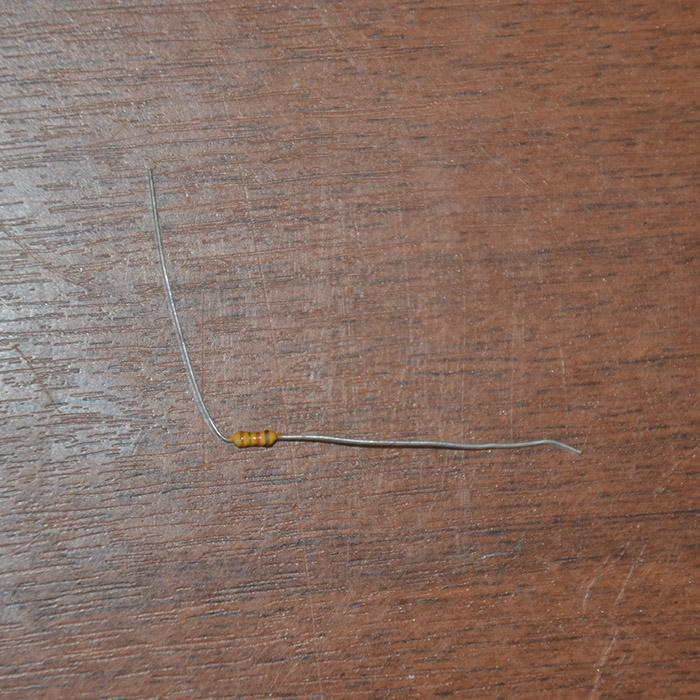resistor: (230, 429, 279, 448)
